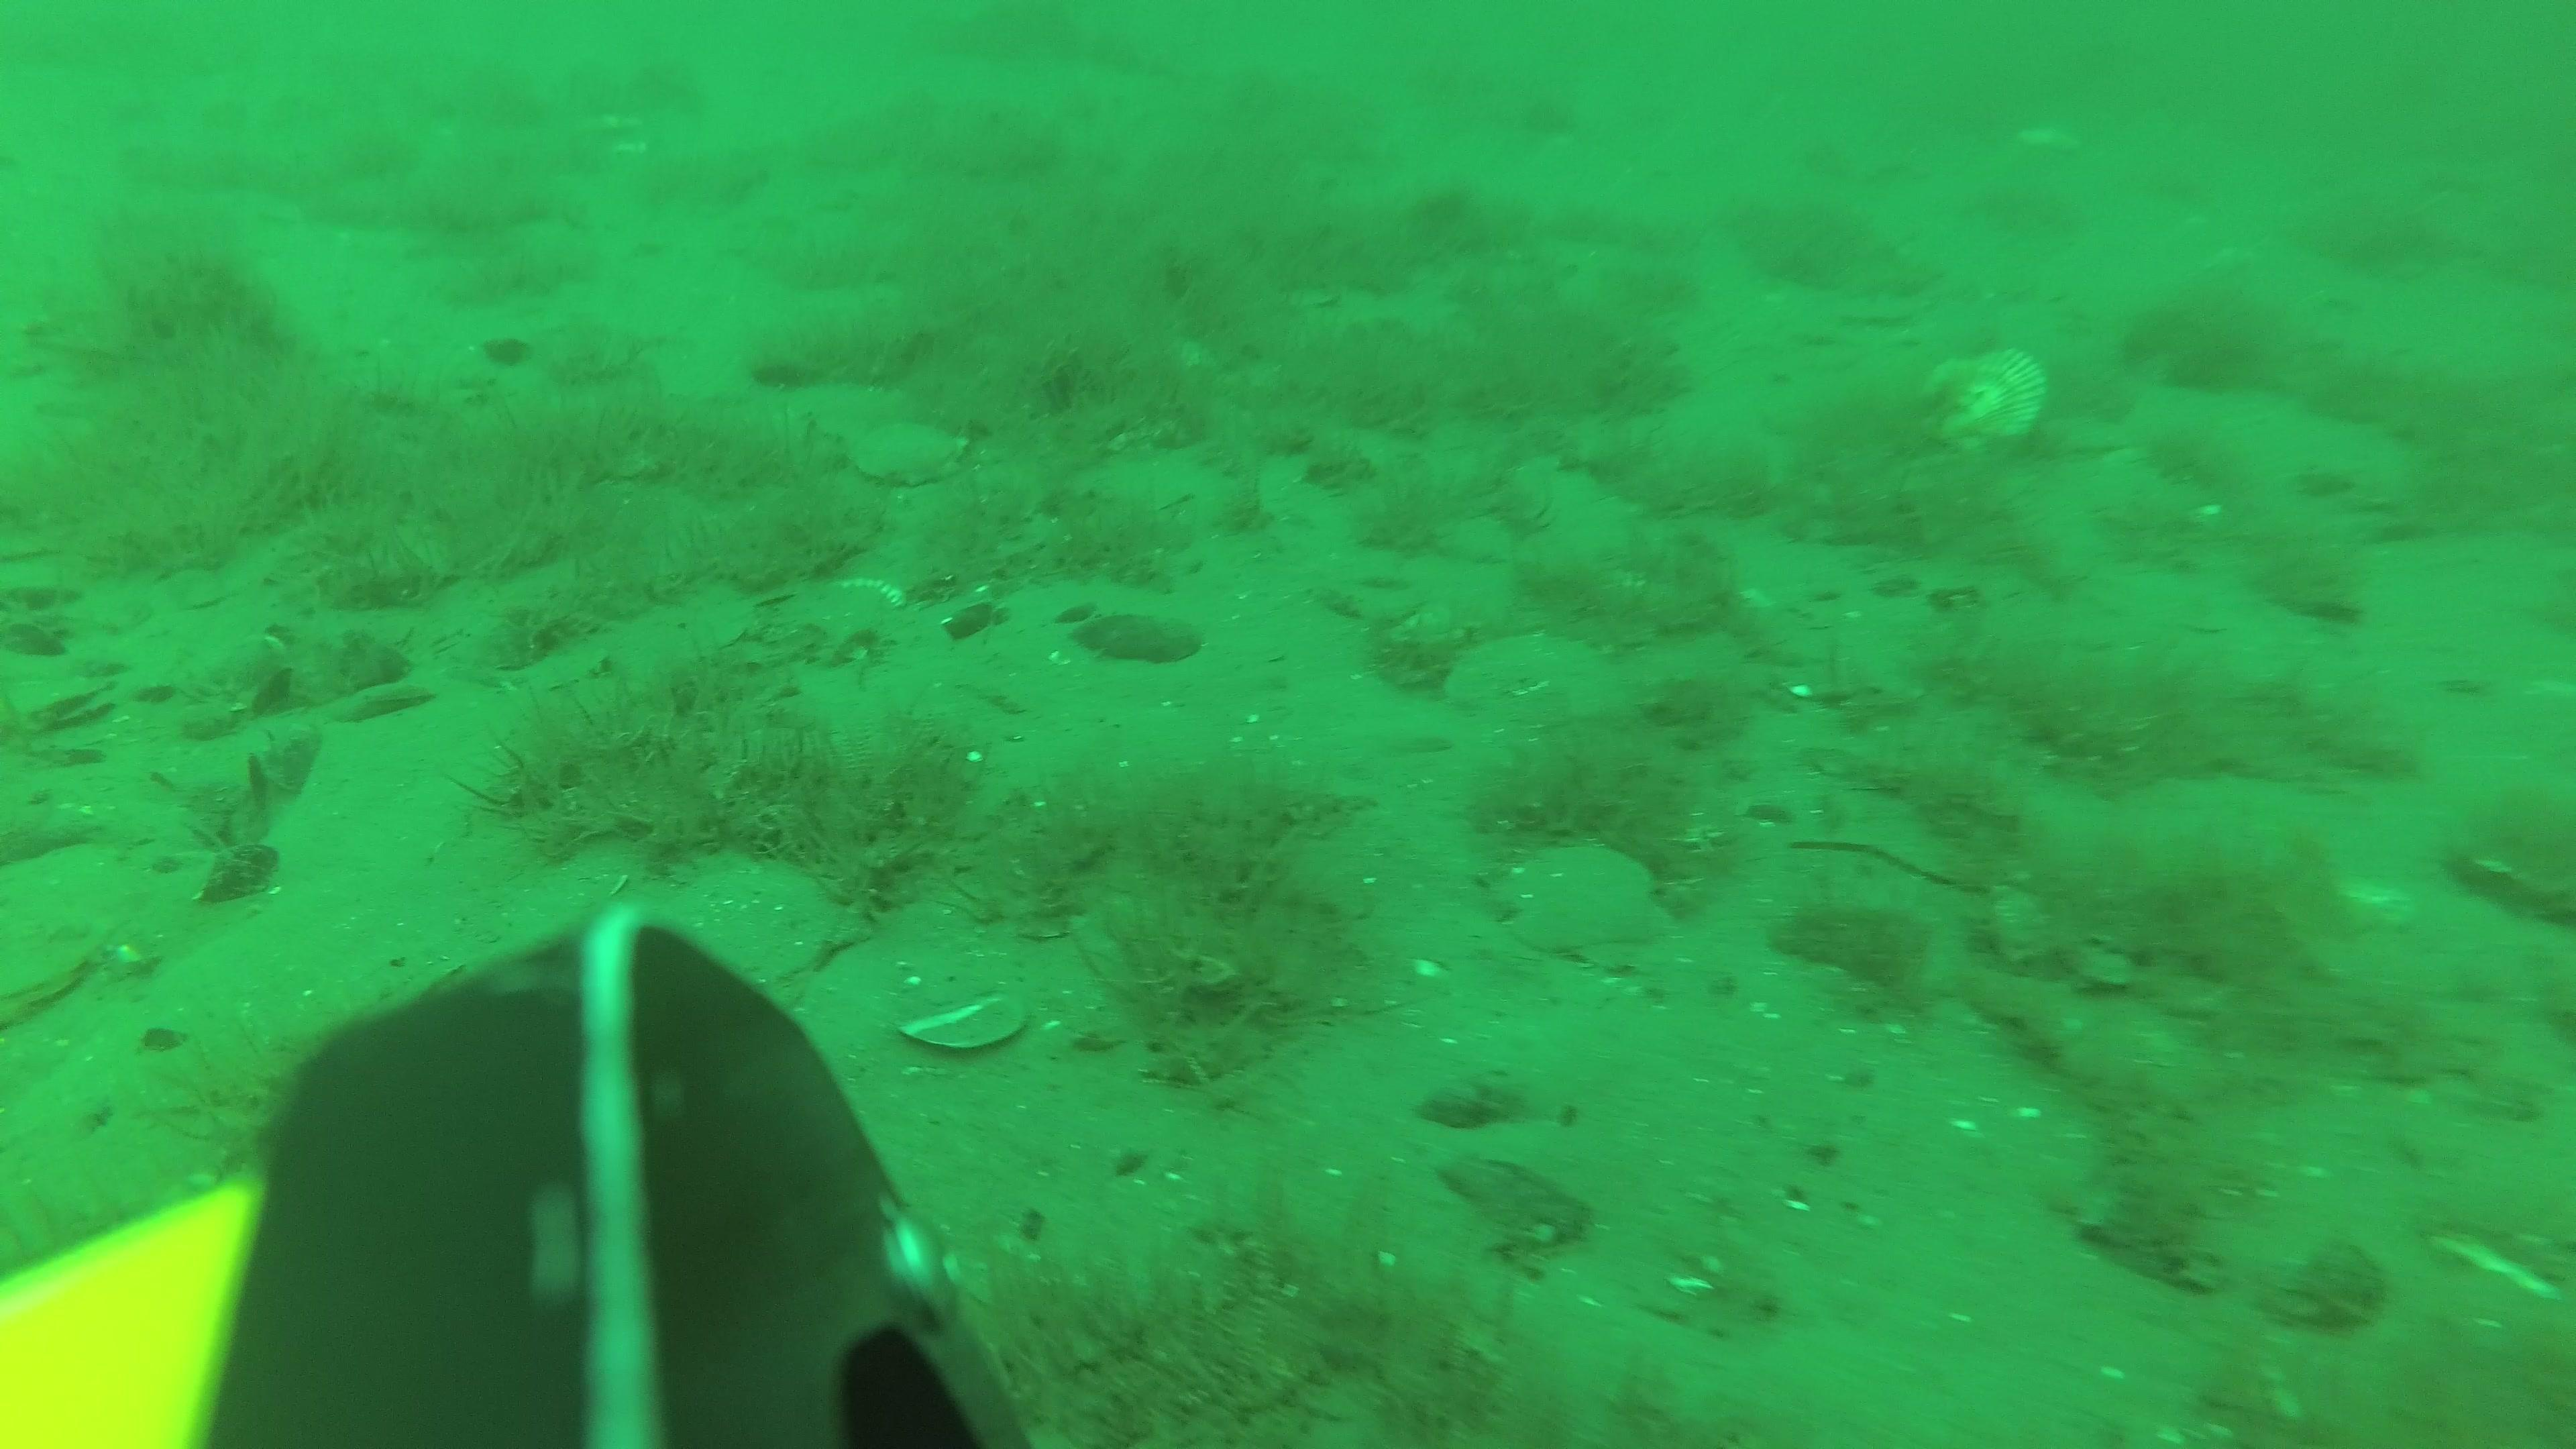scallop: (651, 855, 867, 1010), (0, 842, 133, 1033), (1493, 846, 1677, 975), (1453, 626, 1624, 732), (1921, 345, 2051, 455), (849, 421, 971, 488), (791, 379, 911, 446)
